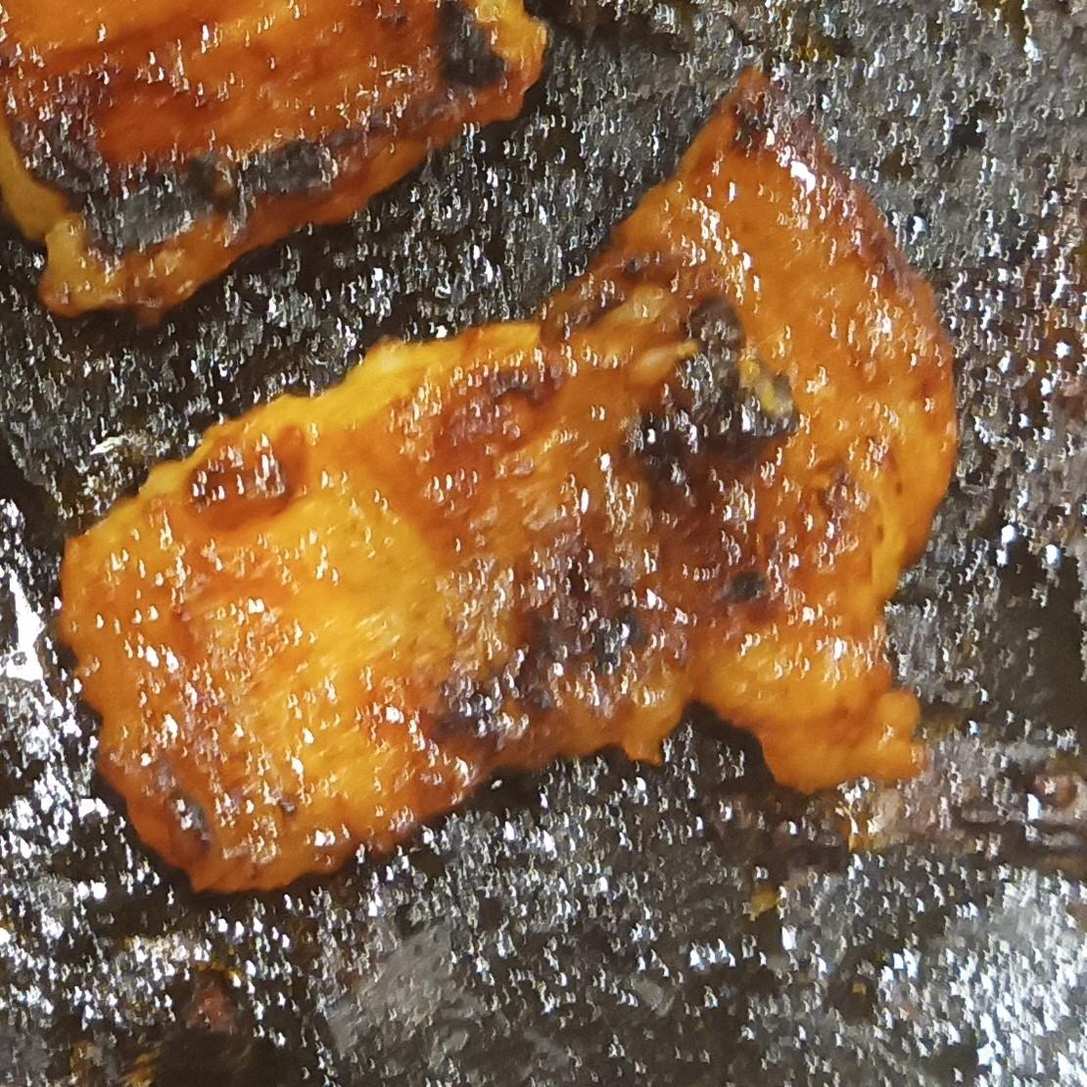Overcooked: (60, 70, 956, 891), (0, 0, 546, 320)
